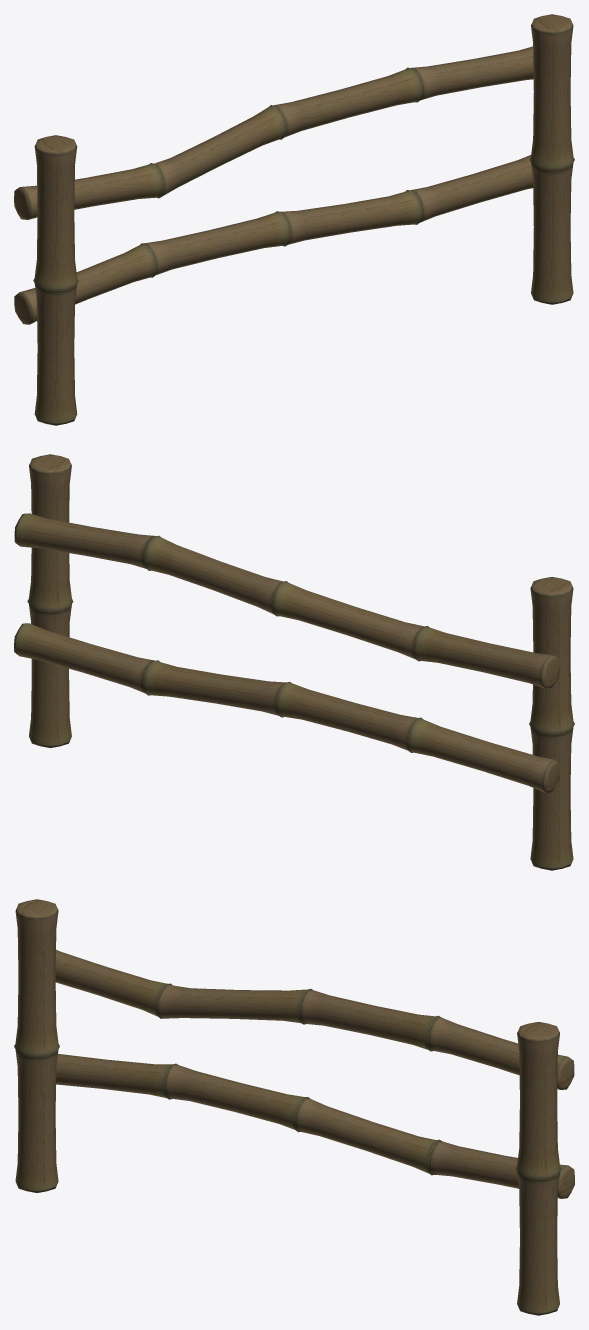
File: wall1.fbx
The picture shows the model from 3 angles, top to bottom: view 1: azimuth 30°, elevation 25°; view 2: azimuth 150°, elevation 25°; view 3: azimuth 330°, elevation 25°; orthographic projection.
Visible parts, largest first — view 1: pCylinder64; view 2: pCylinder64; view 3: pCylinder64.
Boxes of the visible parts, x1,y1,x2,y2 form: pCylinder64: (14, 14, 574, 425); pCylinder64: (14, 454, 574, 870); pCylinder64: (14, 899, 574, 1315).
Size of the model in its own units: 437 by 214 by 62.44.
1 material, 1 textured.
